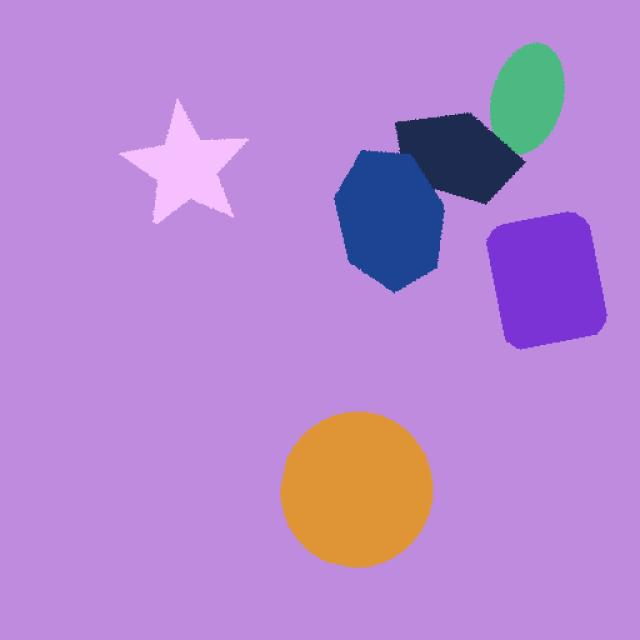Circle: (265, 399, 467, 565)
Heptagon: (322, 132, 468, 307)
Oval: (472, 32, 592, 168)
Pentagon: (388, 106, 526, 220)
Star: (124, 92, 266, 246)
square: (466, 189, 624, 358)
